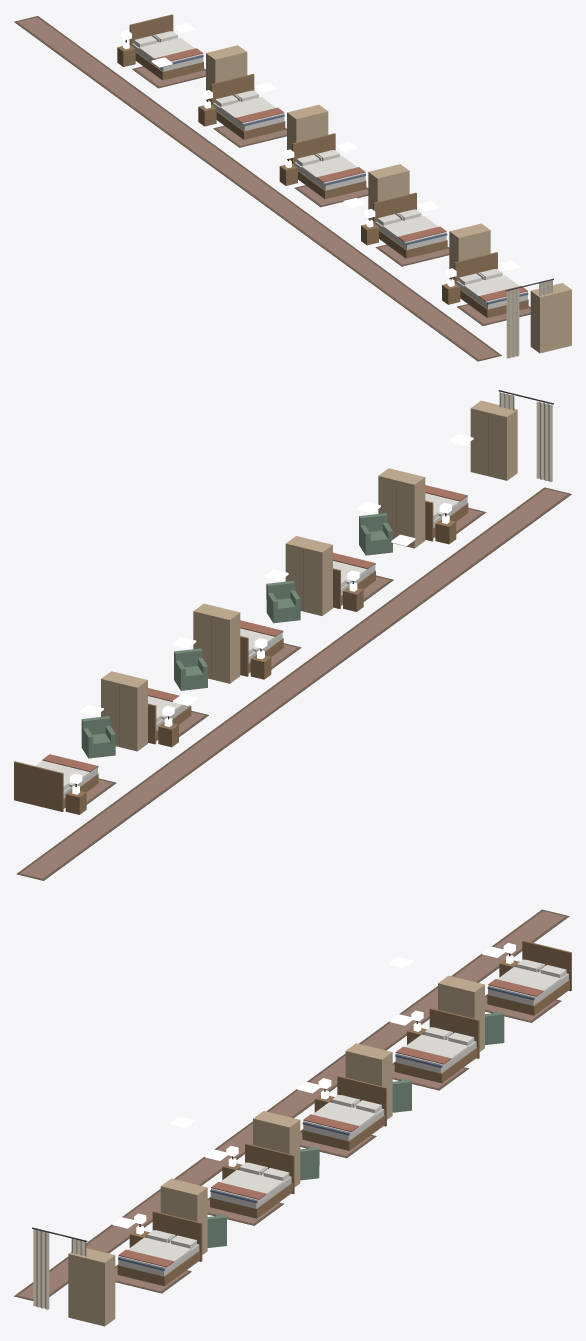
The model's file is fine-s3.glb.
3 renders of one model, top to bottom at view 1: azimuth 30°, elevation 25°; view 2: azimuth 150°, elevation 25°; view 3: azimuth 330°, elevation 25°, orthographic. The views are drawn at different scales.
Parts seen in each view (by area): view 1: soft-s3, dresser.014, bed-frame.011, bed-frame.013, bed-frame.012, bed-frame.010, bed-frame.014, dresser.013, dresser.012, dresser.010, dresser.011; view 2: soft-s3, dresser.014, dresser.011, dresser.012, dresser.010, dresser.013, bed-frame.010, lounge-chair.008, lounge-chair.010, lounge-chair.009, lounge-chair.011, bed-frame.014 (+3 smaller); view 3: soft-s3, dresser.014, bed-frame.011, bed-frame.014, bed-frame.013, bed-frame.012, bed-frame.010, dresser.012, dresser.011, dresser.013, dresser.010, lounge-chair.010 (+3 smaller).
Part boxes in pixels (x1,y1,x2,y2): soft-s3: (14, 16, 553, 361); dresser.014: (530, 283, 571, 353); bed-frame.011: (210, 74, 285, 139); bed-frame.013: (373, 192, 447, 258); bed-frame.012: (292, 133, 366, 199); bed-frame.010: (129, 14, 203, 80); bed-frame.014: (454, 252, 528, 317); dresser.013: (449, 223, 490, 279); dresser.012: (368, 164, 409, 220); dresser.010: (206, 45, 247, 101); dresser.011: (287, 104, 328, 160); soft-s3: (16, 390, 571, 880); dresser.014: (470, 400, 517, 480); dresser.011: (193, 603, 240, 683); dresser.012: (285, 536, 332, 615); dresser.010: (101, 671, 147, 751); dresser.013: (378, 468, 425, 548); bed-frame.010: (14, 761, 98, 811); lounge-chair.008: (81, 716, 115, 758); lounge-chair.010: (266, 580, 300, 623); lounge-chair.009: (174, 648, 207, 690); lounge-chair.011: (359, 513, 392, 555); bed-frame.014: (425, 495, 468, 541); soft-s3: (14, 909, 569, 1309); dresser.014: (68, 1248, 115, 1326); bed-frame.011: (394, 1008, 479, 1083); bed-frame.014: (117, 1211, 202, 1286); bed-frame.013: (210, 1143, 294, 1218); bed-frame.012: (302, 1075, 386, 1150); bed-frame.010: (487, 940, 571, 1015); dresser.012: (253, 1111, 300, 1186); dresser.011: (345, 1043, 392, 1119); dresser.013: (160, 1178, 207, 1254); dresser.010: (438, 975, 484, 1051); lounge-chair.010: (300, 1146, 319, 1180).
Bounding box in the file's own units: 3.55 × 2.51 × 30.51.
